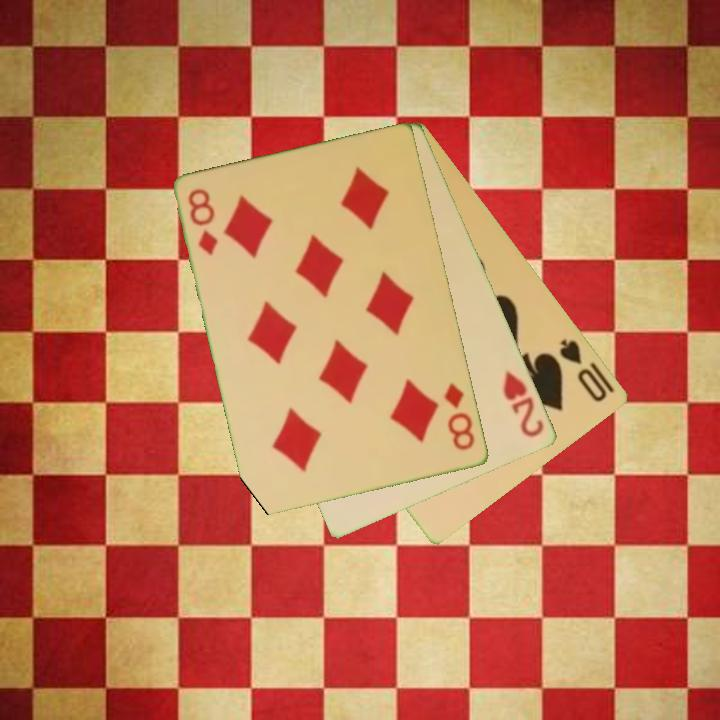10s: (556, 335, 610, 405)
2h: (500, 367, 548, 441)
8d: (441, 380, 478, 454), (185, 185, 222, 259)
